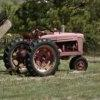Tractor: (6, 18, 95, 74)
